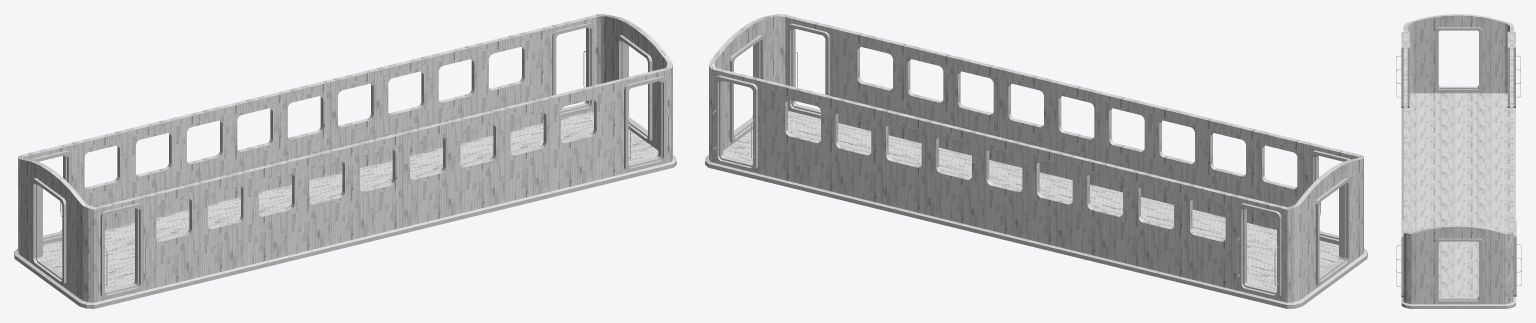
Rendered from Train Coach Body_A_001.fbx.
3 views of the same model, side by side, from view 1: azimuth 30°, elevation 25°; view 2: azimuth 150°, elevation 25°; view 3: azimuth 270°, elevation 25° (orthographic). The views are drawn at different scales.
Visible parts, largest first — view 1: Train_Coach_Body_A_001; view 2: Train_Coach_Body_A_001; view 3: Train_Coach_Body_A_001.
Part boxes in pixels (x1,y1,x2,y2): Train_Coach_Body_A_001: (14, 14, 676, 308); Train_Coach_Body_A_001: (705, 14, 1367, 308); Train_Coach_Body_A_001: (1396, 14, 1521, 308).
Bounding box in the file's own units: 1366 × 240 × 336.
4 materials, 4 textured.
